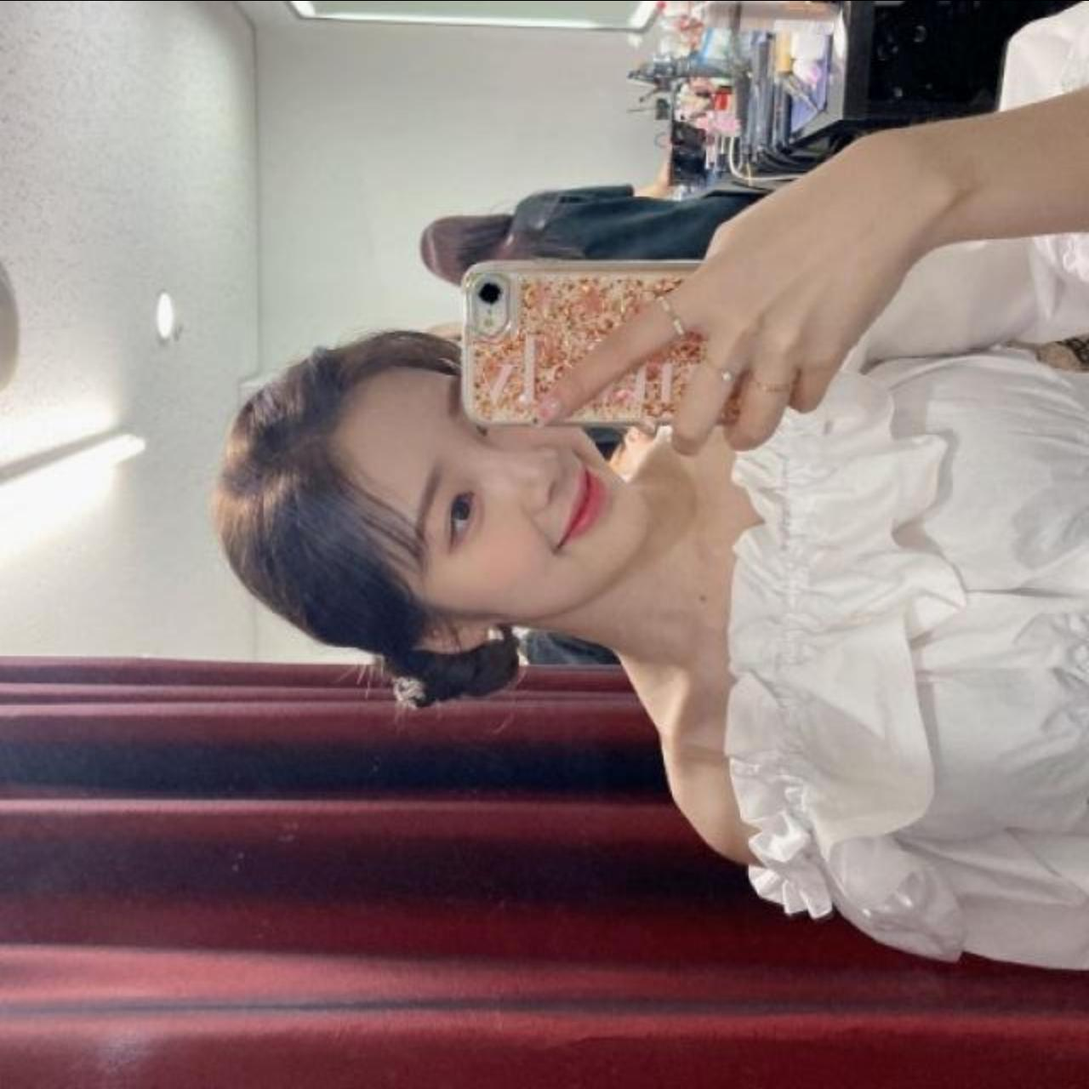phone: (459, 250, 759, 427)
